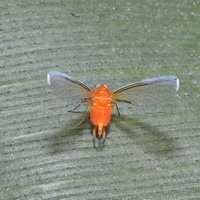insect: (47, 71, 178, 150)
